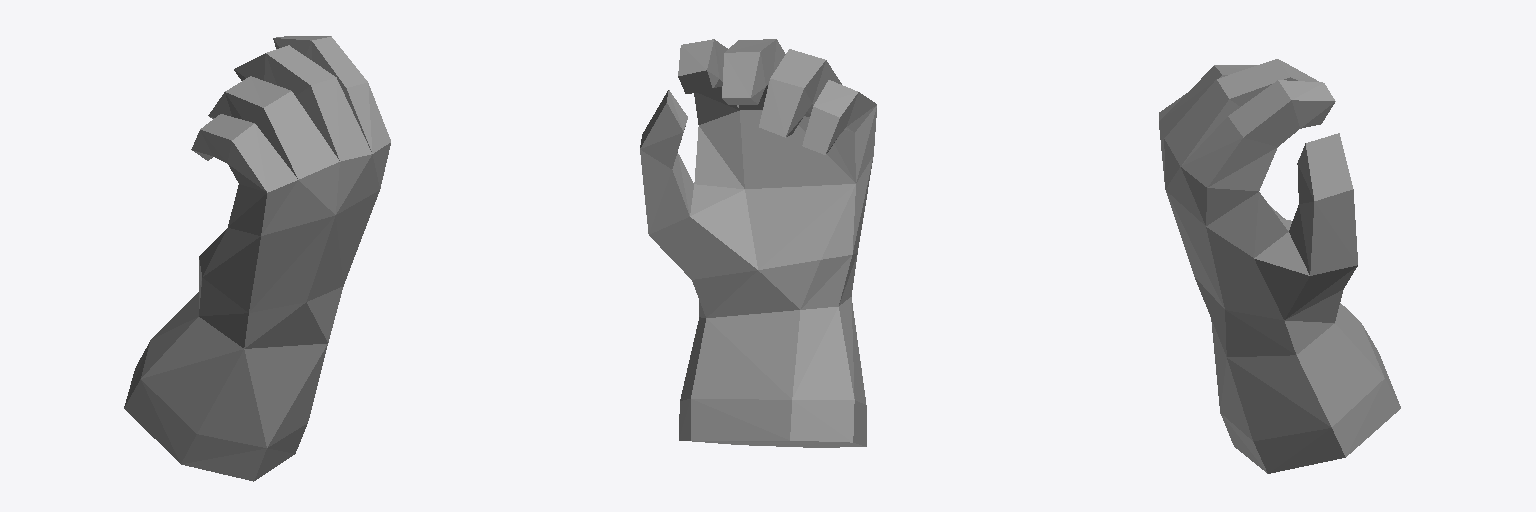
File: left_glove.obj
The picture shows the model from 3 angles: view 1: azimuth 30°, elevation 25°; view 2: azimuth 150°, elevation 25°; view 3: azimuth 270°, elevation 25°; orthographic projection.
Visible parts, largest first — view 1: hh_g; view 2: hh_g; view 3: hh_g.
Part boxes in pixels (bbox=[...]): hh_g: bbox=[124, 36, 390, 481]; hh_g: bbox=[640, 39, 876, 447]; hh_g: bbox=[1159, 59, 1400, 473].
Bounding box in the file's own units: 0.1346 × 0.2399 × 0.1301.